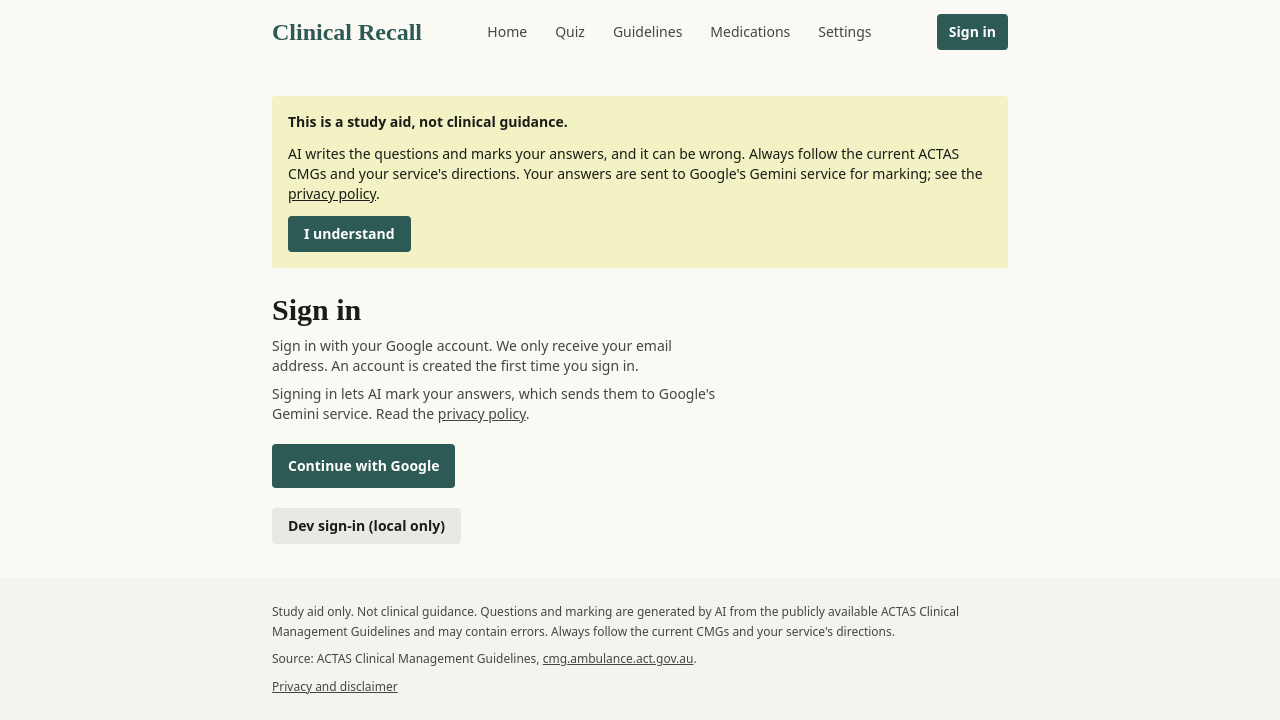
Scenario: sign-in › offers dev sign-in only when the server allows it
Click the button "Dev sign-in (local only)".
click(366, 526)  # box top-left (272, 508), bottom-right (461, 544)
(page scrolled)
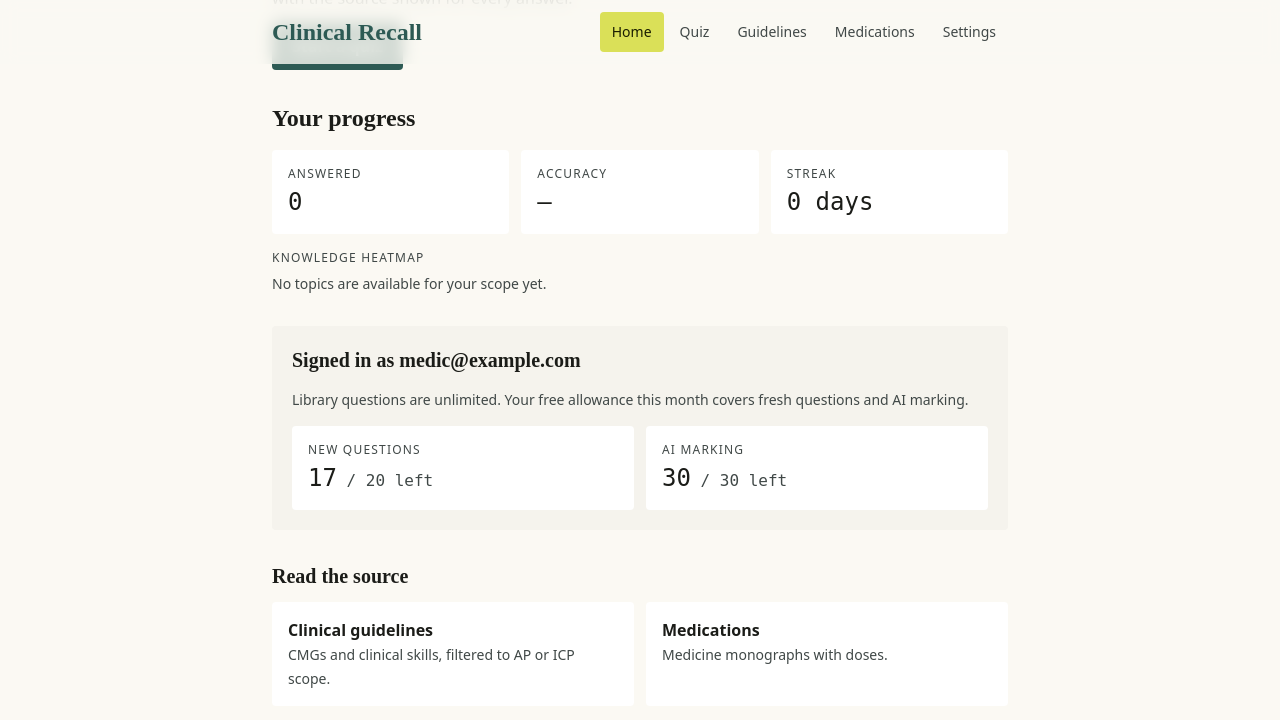
Check: the heading "Signed in as medic@example.com" is shown, box top-left (292, 349), bottom-right (581, 371)
